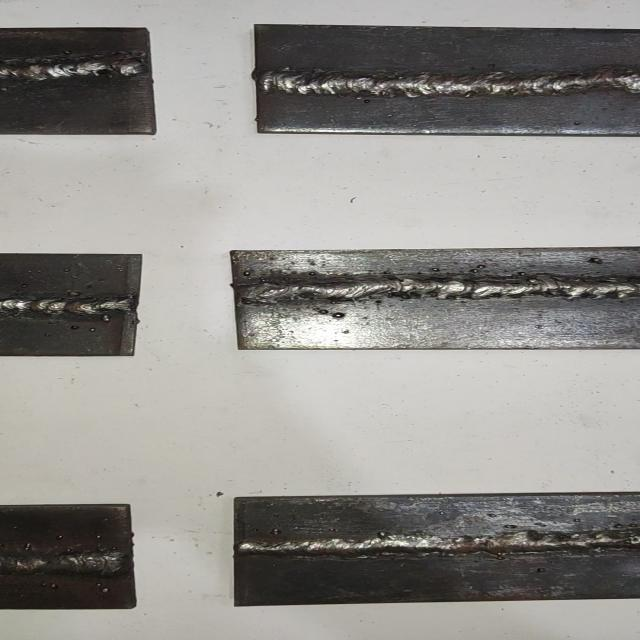Good Weld: (239, 531, 640, 557), (260, 67, 640, 93), (240, 279, 640, 302), (0, 55, 147, 83), (0, 295, 134, 319), (0, 550, 125, 575)
